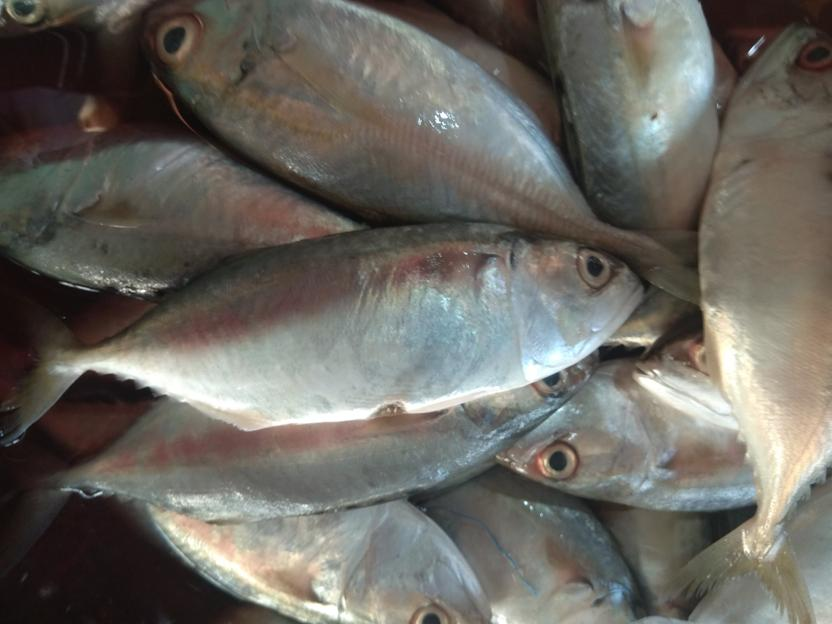Fish head: (495, 357, 656, 507), (509, 225, 646, 384), (327, 499, 493, 624), (143, 1, 278, 108), (458, 360, 601, 441), (725, 23, 832, 124), (1, 1, 92, 40)
Fish tail: (663, 517, 817, 624), (1, 289, 89, 440), (1, 452, 75, 561), (647, 223, 705, 305)
